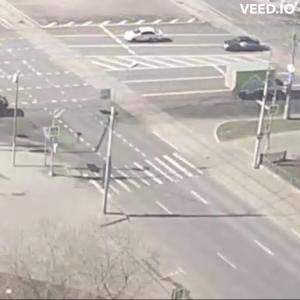car: (239, 77, 286, 103), (223, 36, 272, 54), (125, 27, 168, 45)
